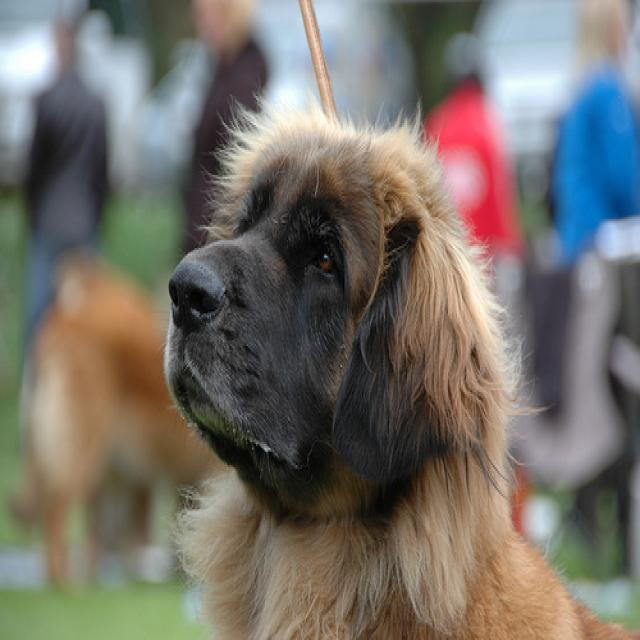dog-leonberger: (160, 108, 637, 636)
